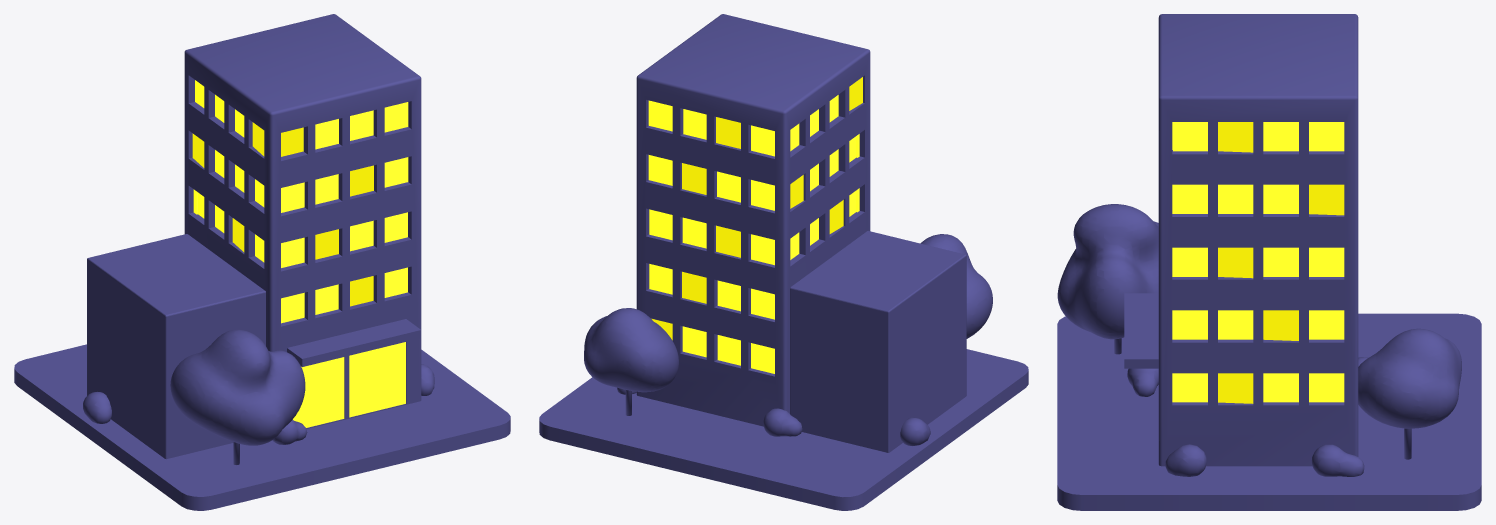
The model's file is building 02.glb.
3 views of the same model, side by side, from view 1: azimuth 30°, elevation 25°; view 2: azimuth 150°, elevation 25°; view 3: azimuth 270°, elevation 25° (orthographic). The views are drawn at different scales.
Parts seen in each view (by area): view 1: Building, non-glowing-light, glowing-light; view 2: Building, non-glowing-light, glowing-light; view 3: Building, non-glowing-light, glowing-light.
Boxes of the visible parts, <box> form: Building: <box>14,14,510,510</box>; non-glowing-light: <box>193,80,408,427</box>; glowing-light: <box>192,122,373,306</box>; Building: <box>539,14,1028,510</box>; non-glowing-light: <box>648,95,859,373</box>; glowing-light: <box>651,77,862,340</box>; Building: <box>1057,14,1481,510</box>; non-glowing-light: <box>1172,122,1344,402</box>; glowing-light: <box>1218,122,1344,403</box>.
Size of the model in its own units: 4.76 by 4.73 by 4.7.
